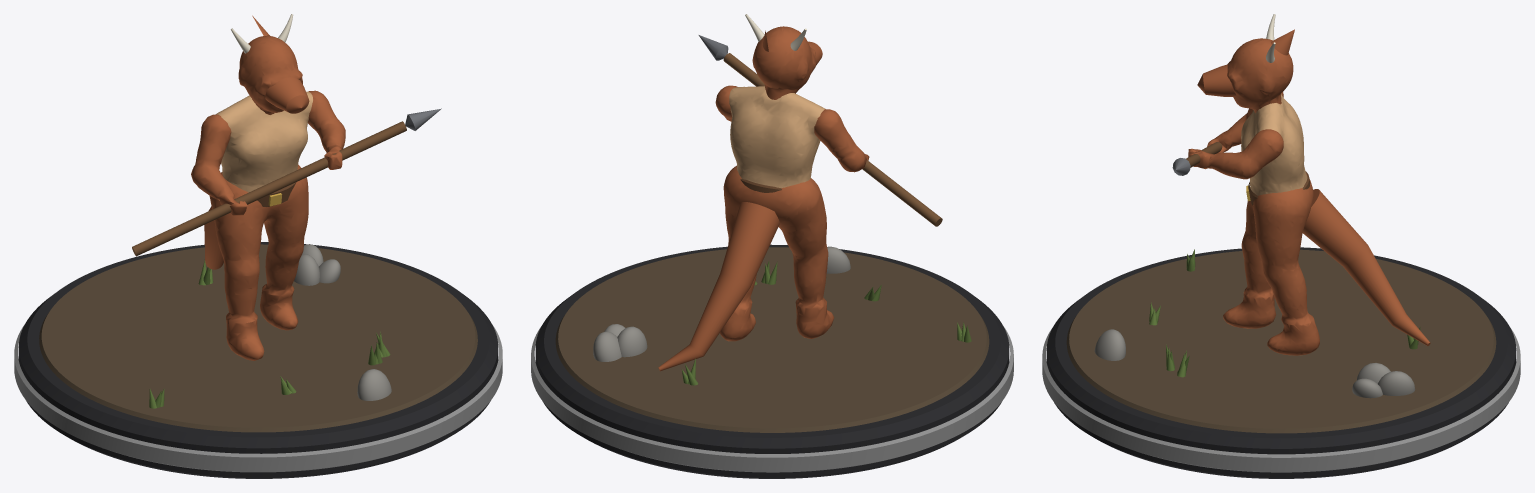
The model's file is kobold.glb.
3 views of the same model, side by side, from view 1: azimuth 30°, elevation 25°; view 2: azimuth 150°, elevation 25°; view 3: azimuth 270°, elevation 25° (orthographic). The views are drawn at different scales.
Parts seen in each view (by area): view 1: kobold; view 2: kobold; view 3: kobold.
Boxes of the visible parts, x1,y1,x2,y2 form: kobold: (14,14,502,478); kobold: (531,14,1013,478); kobold: (1042,14,1520,478).
Bounding box in the file's own units: 0.8559 × 0.6988 × 0.8559.
